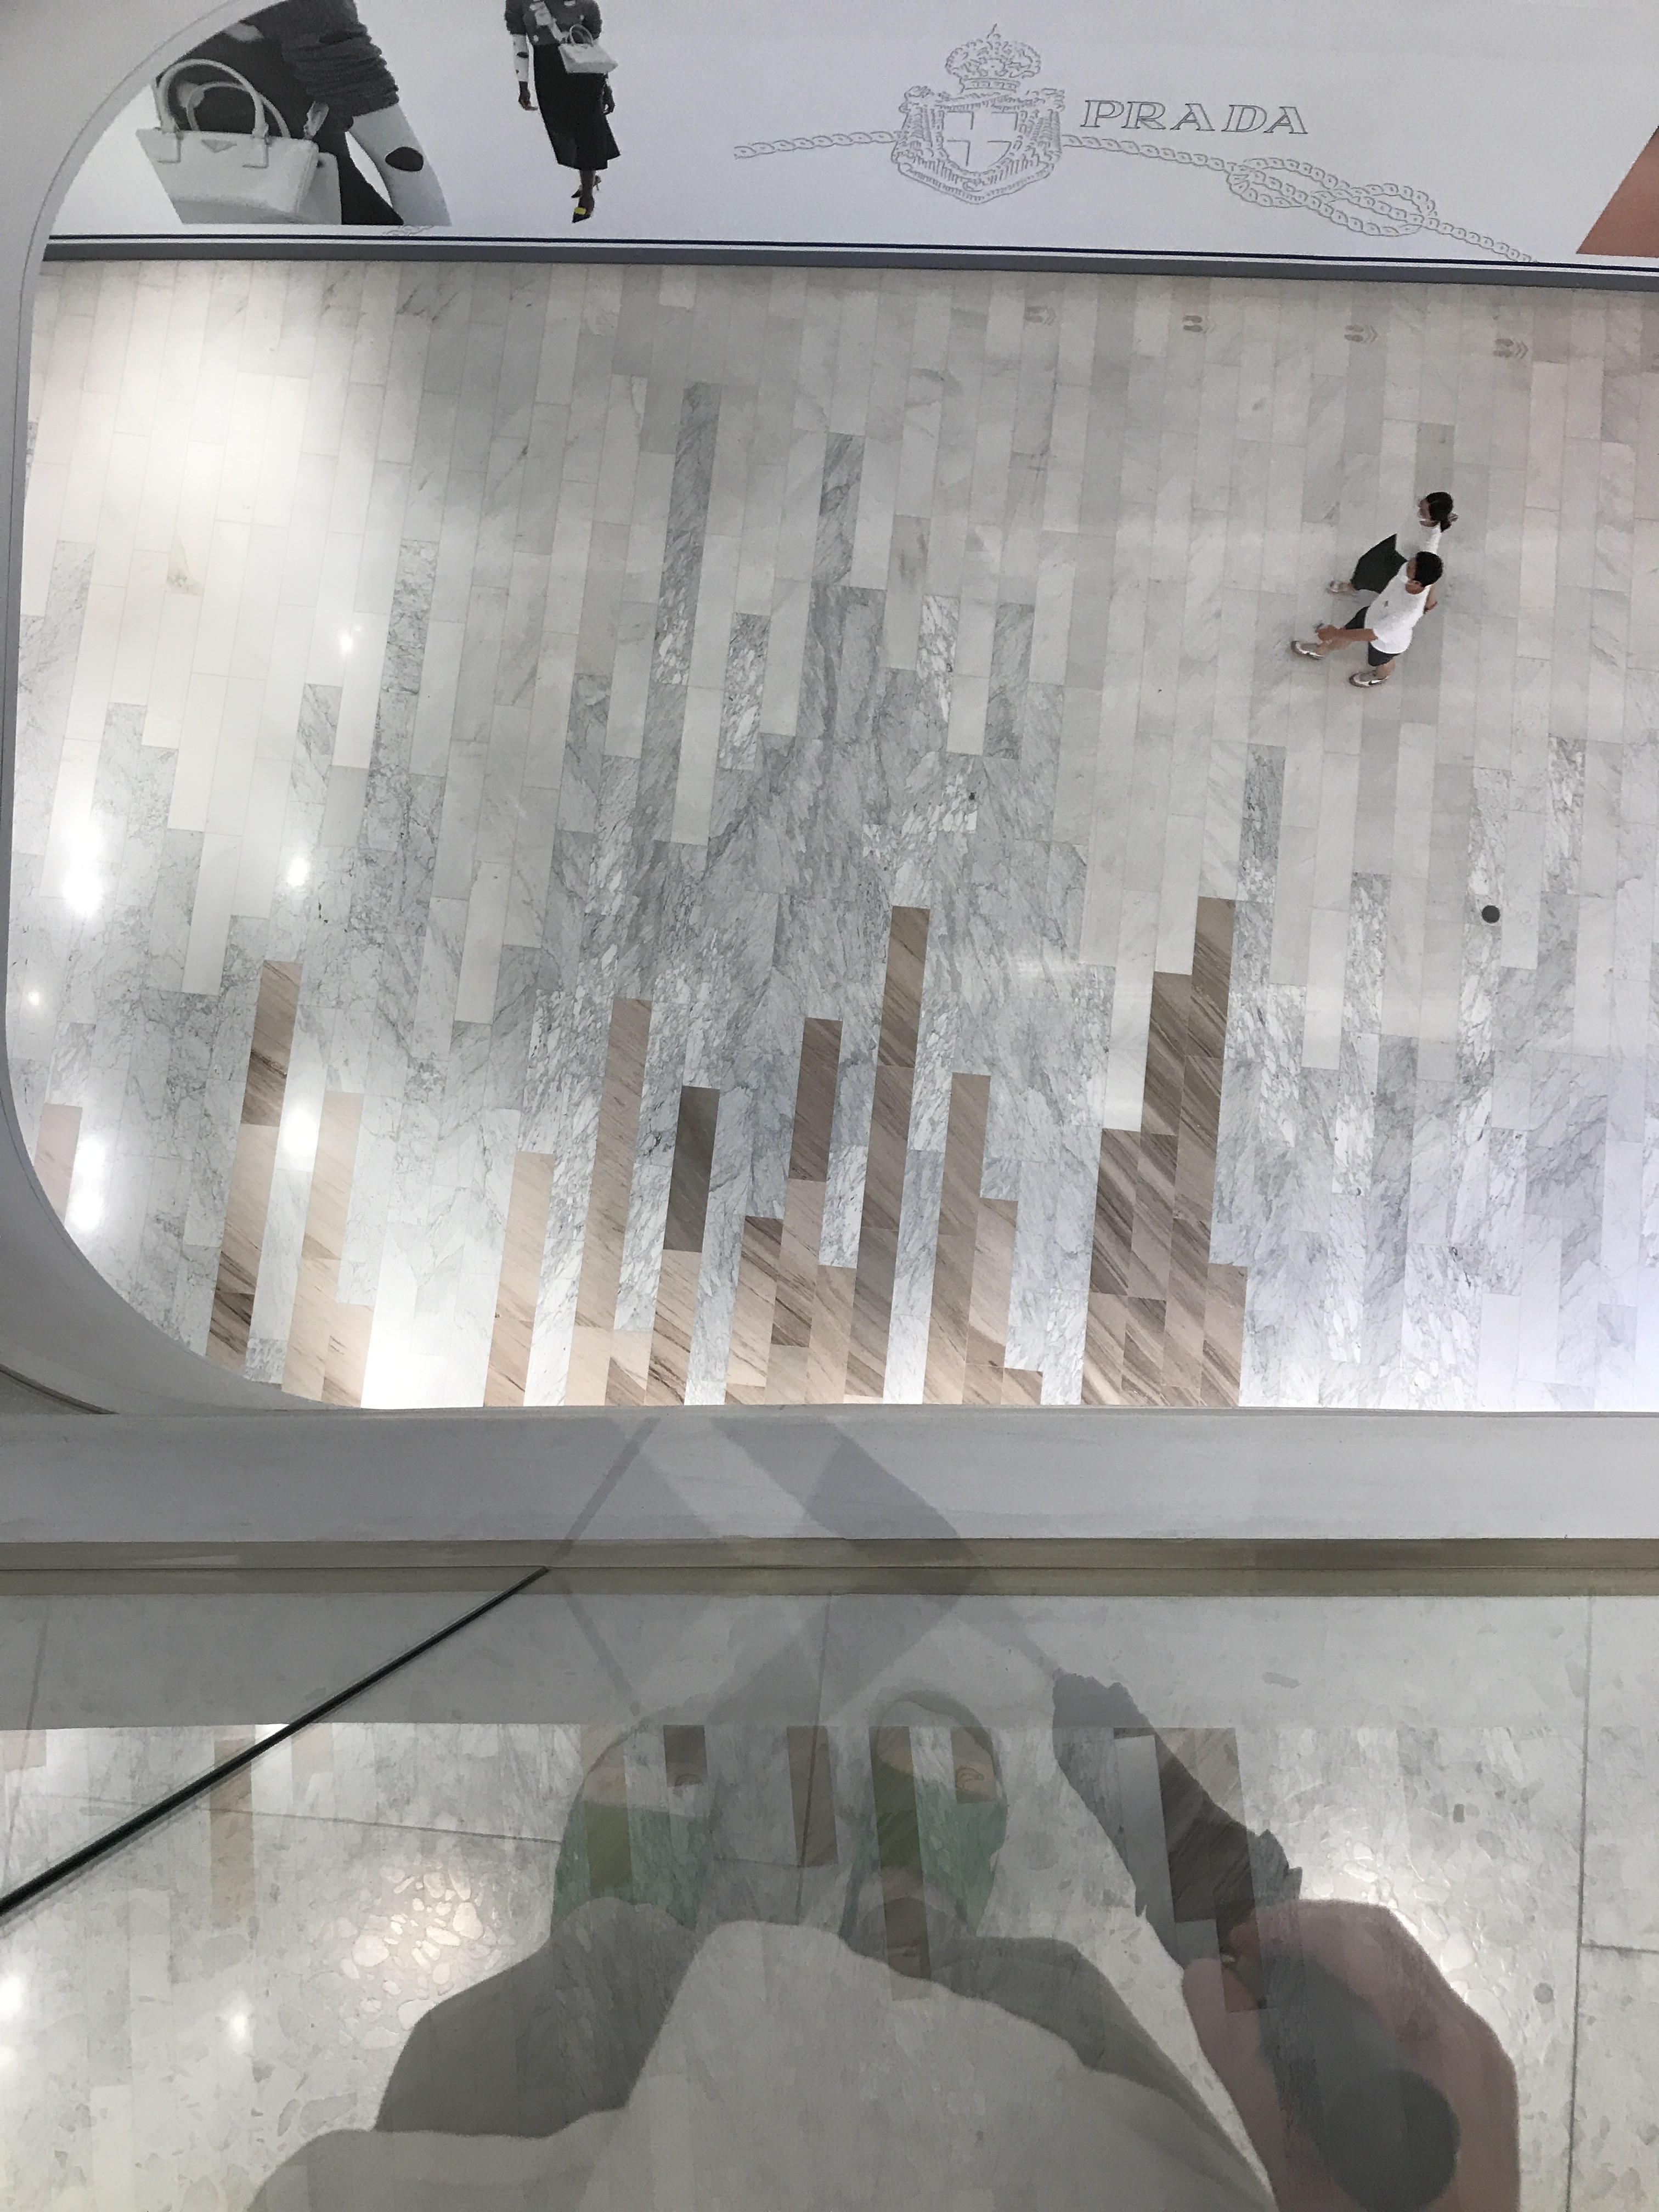person: (1288, 551, 1444, 689), (1324, 490, 1458, 612)
